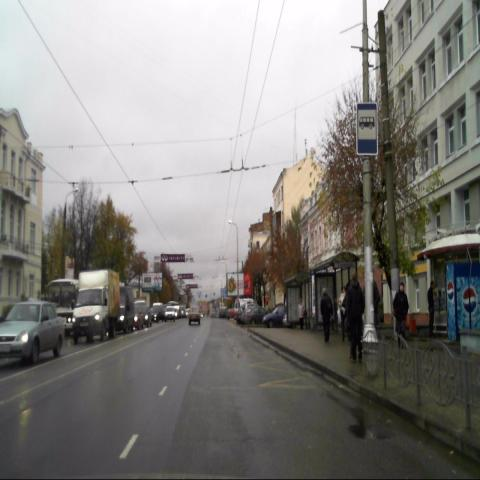5_16: (356, 102, 378, 155)
